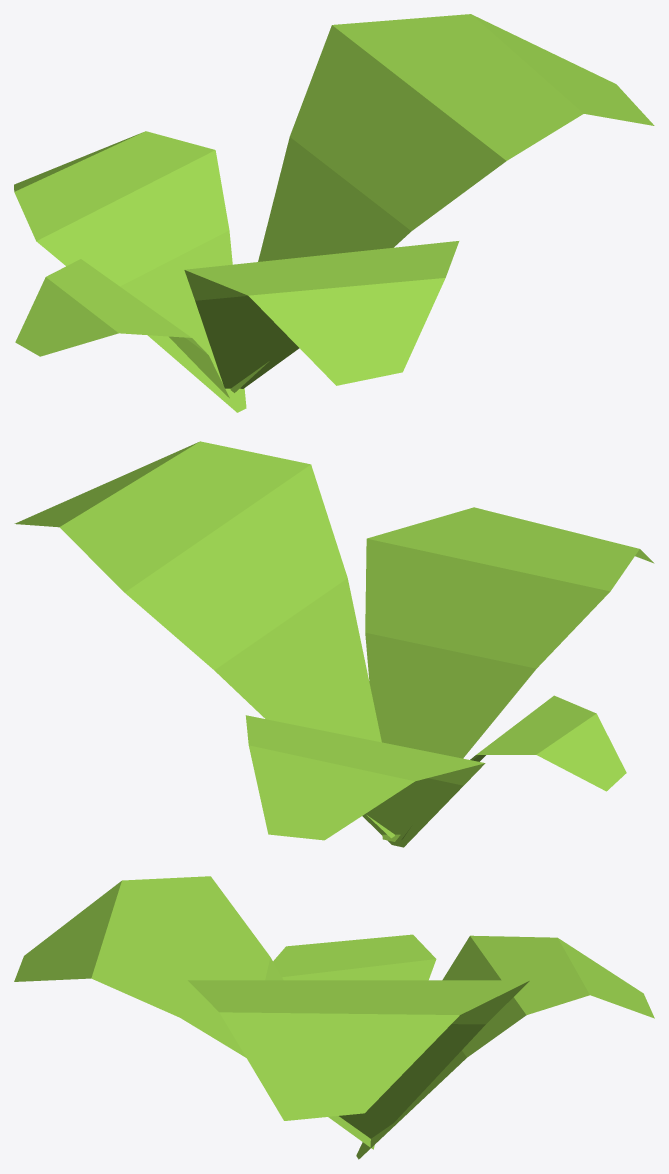
Rendered from rumputbesar2.fbx.
3 views of the same model, one above another, from view 1: azimuth 30°, elevation 25°; view 2: azimuth 150°, elevation 25°; view 3: azimuth 270°, elevation 25° (orthographic). The views are drawn at different scales.
Parts seen in each view (by area): view 1: Plant_1a; view 2: Plant_1a; view 3: Plant_1a.
Boxes of the visible parts, x1=… form: Plant_1a: x1=14, y1=14, x2=654, y2=412; Plant_1a: x1=14, y1=441, x2=654, y2=847; Plant_1a: x1=14, y1=876, x2=654, y2=1159.
Size of the model in its own units: 42.8 by 19.82 by 41.92.
